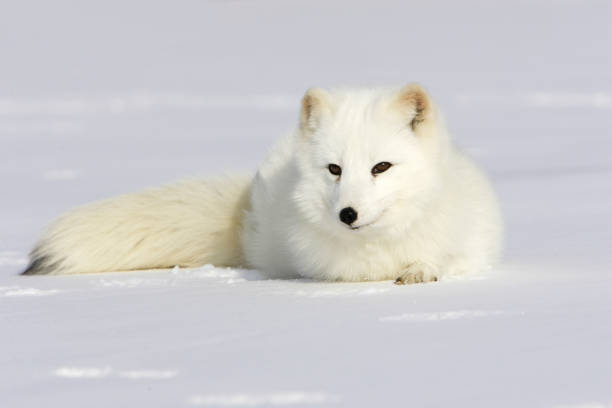arcticfox: (312, 125, 416, 234)
